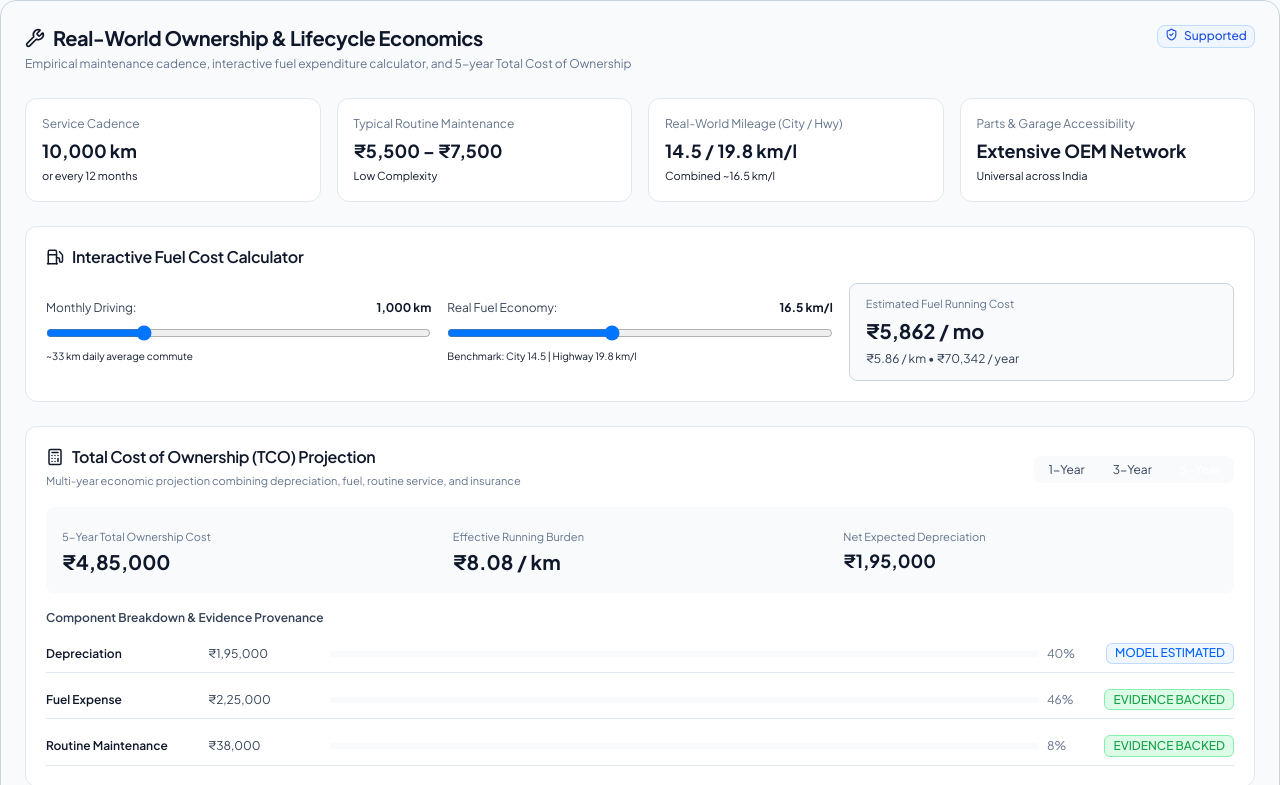
Test: Phase 14 — Market Intelligence & Real-World Ownership Components › switches TCO horizons between 1-Year and 5-Year
This screenshot has width=1280, height=785.
# Click 1-Year horizon tab
Click the button "1-Year" at (1067, 469), box [1036,458,1097,480]
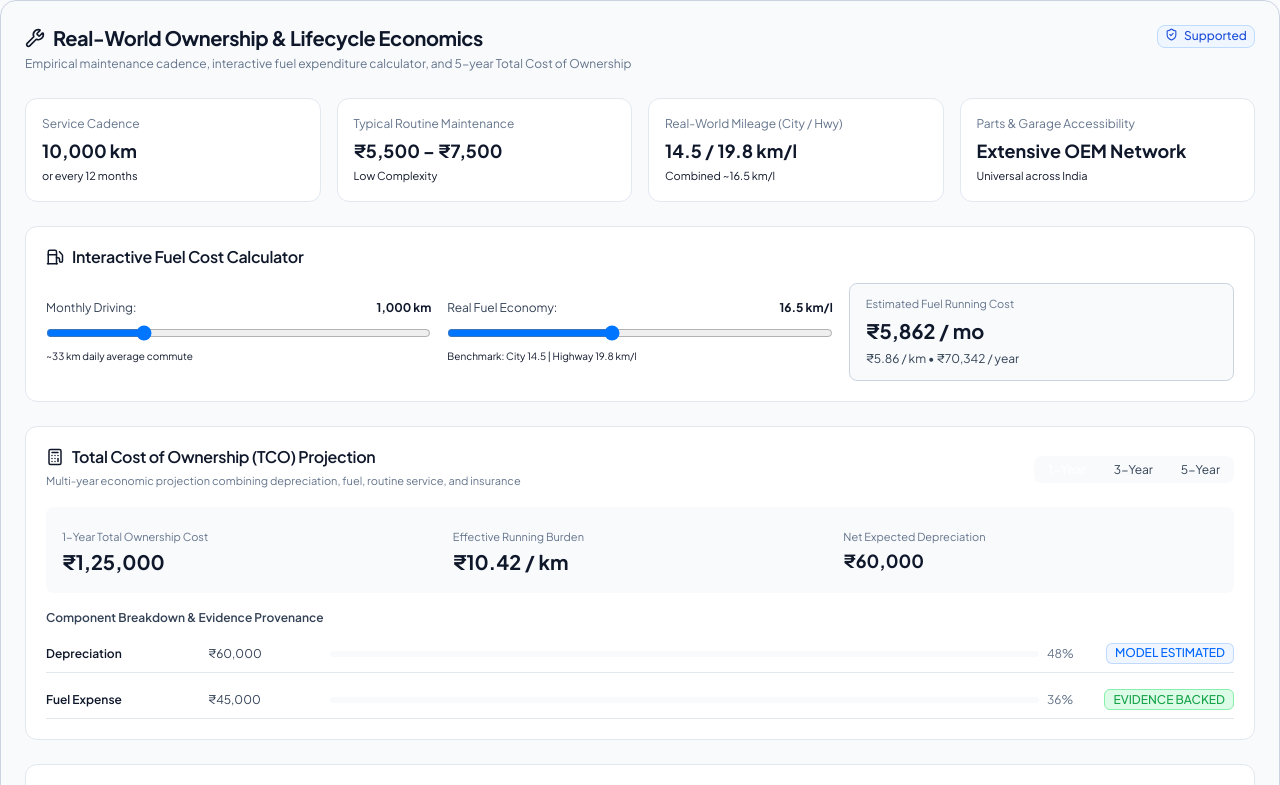
Check: the text "₹1,25,000" is shown, box [62,549,165,574]
Check: the text "₹10.42 / km" is shown, box [453,549,568,574]
